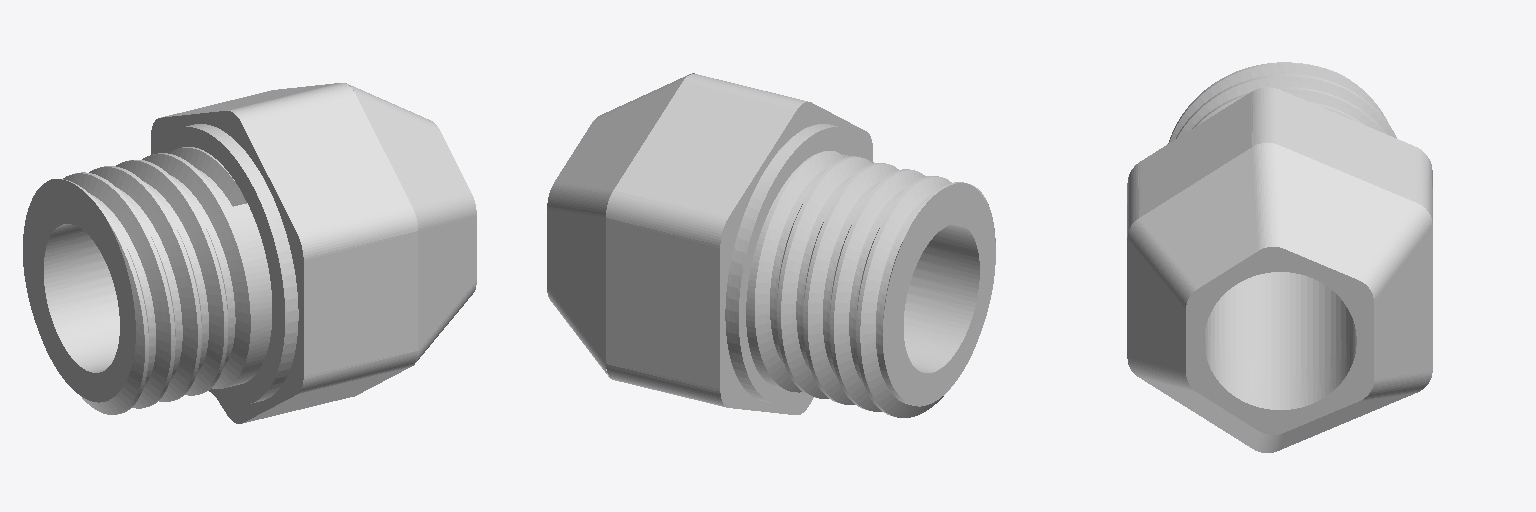
Rendered from screw_TOP2.obj.
3 views of the same model, side by side, from view 1: azimuth 30°, elevation 25°; view 2: azimuth 150°, elevation 25°; view 3: azimuth 270°, elevation 25° (orthographic).
Parts seen in each view (by area): view 1: screw_TOP2; view 2: screw_TOP2; view 3: screw_TOP2.
Boxes of the visible parts, box(x1,y1,x2,y2) form: screw_TOP2: box(23, 83, 476, 423); screw_TOP2: box(547, 73, 995, 417); screw_TOP2: box(1127, 62, 1432, 452).
Bounding box in the file's own units: 39.5 × 33.68 × 30.